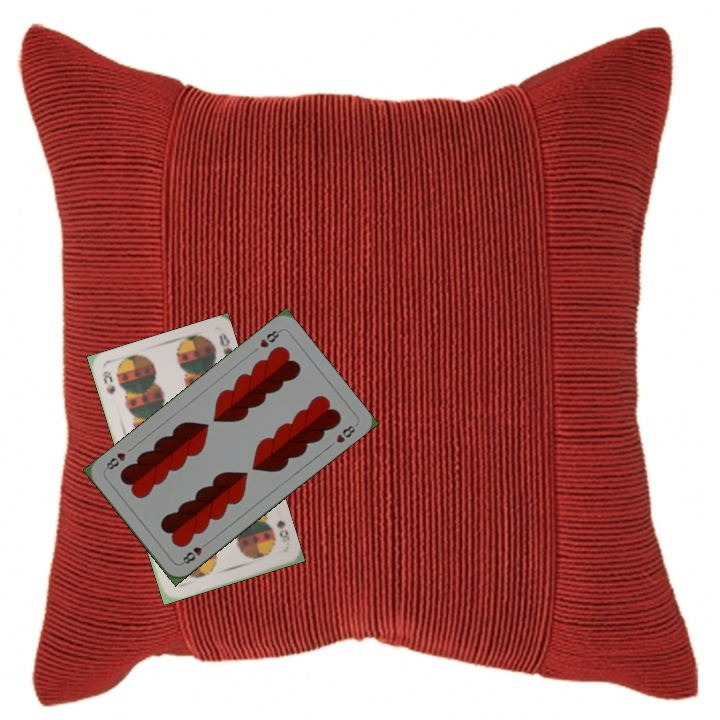H8: (177, 538, 211, 567), (256, 325, 283, 350)
S8: (98, 367, 118, 397), (272, 516, 292, 545)
